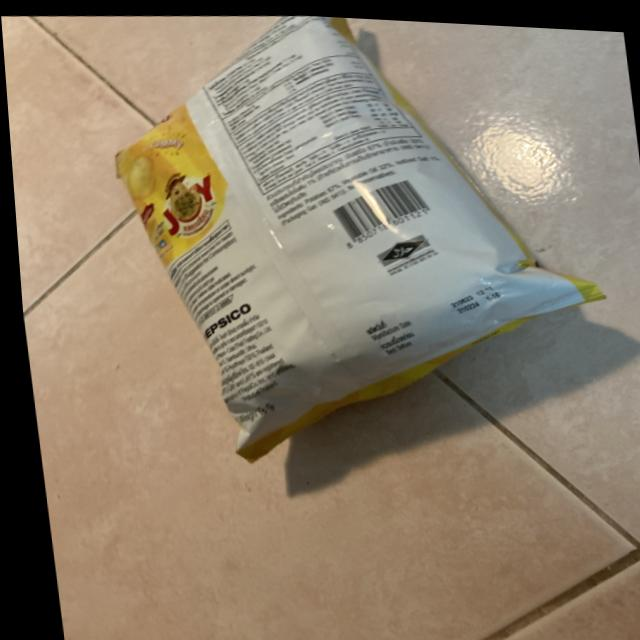LayYellow: (99, 4, 613, 484)
